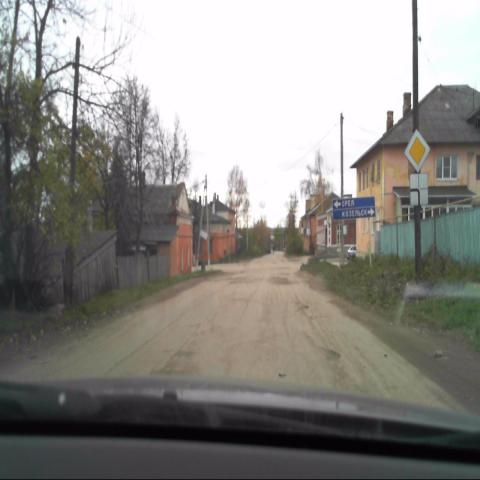8_13: (408, 173, 429, 205)
